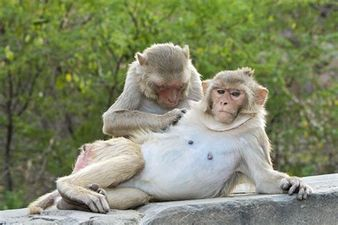monkey: (108, 56, 334, 225), (94, 13, 227, 126)
